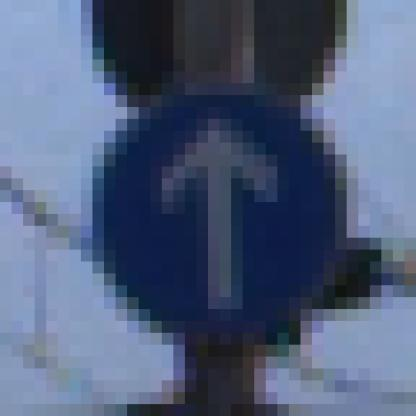AheadOnly: (71, 61, 360, 358)
